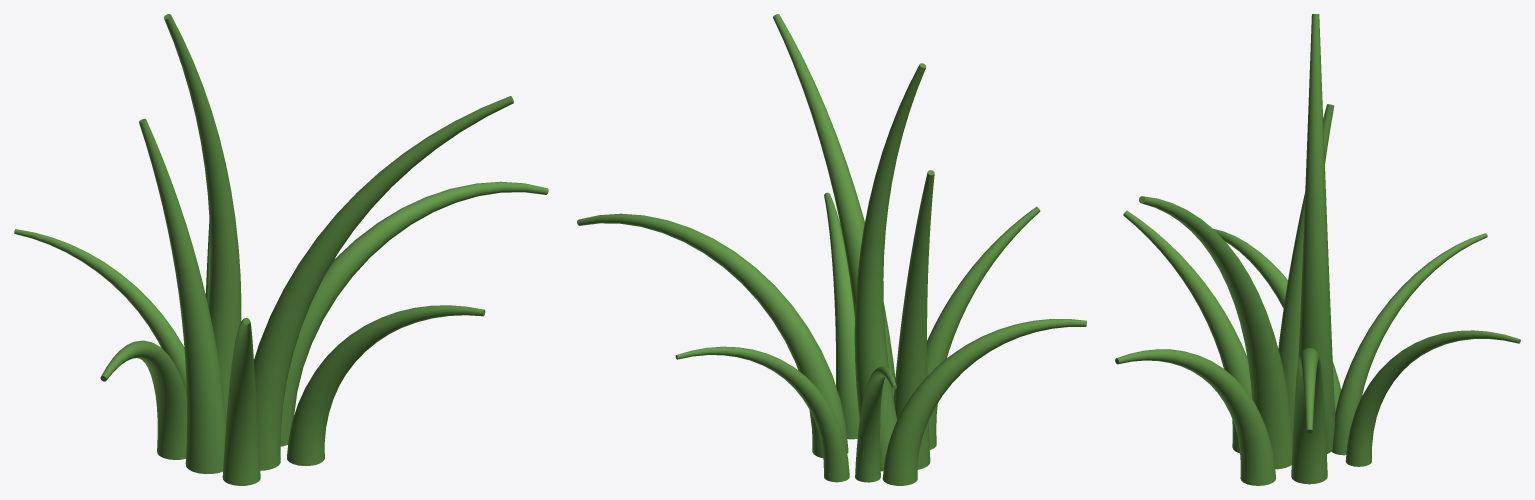
File: Grass.fbx
3 views of the same model, side by side, from view 1: azimuth 30°, elevation 25°; view 2: azimuth 150°, elevation 25°; view 3: azimuth 270°, elevation 25° (orthographic). The views are drawn at different scales.
Visible parts, largest first — view 1: Grass_msh; view 2: Grass_msh; view 3: Grass_msh.
Boxes of the visible parts, box(x1,y1,x2,y2) form: Grass_msh: box(14, 14, 548, 485); Grass_msh: box(577, 14, 1086, 485); Grass_msh: box(1115, 14, 1520, 485).
Bounding box in the file's own units: 3.03 × 2.6 × 2.29.
